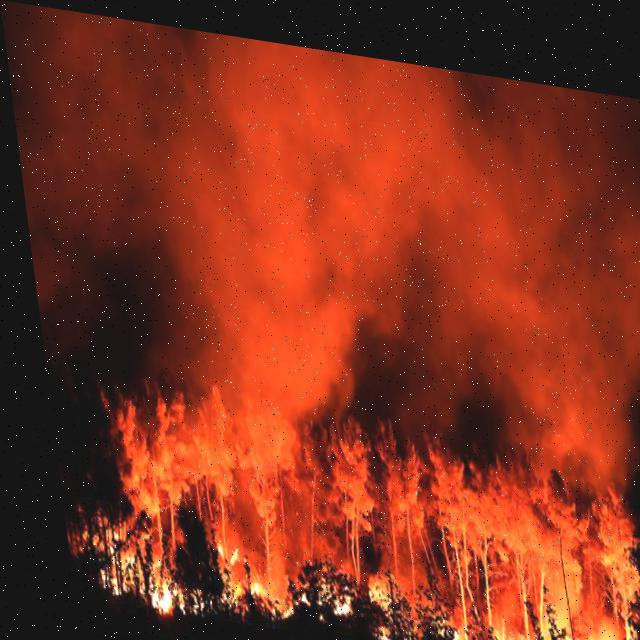Fire: (74, 518, 639, 639)
